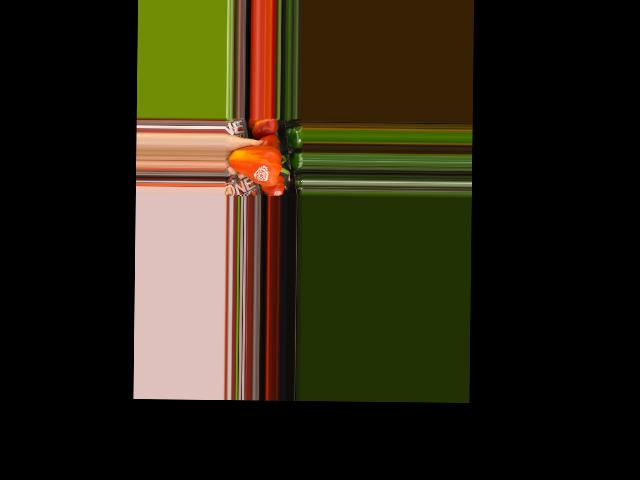bell_pepper: (229, 140, 291, 188)
